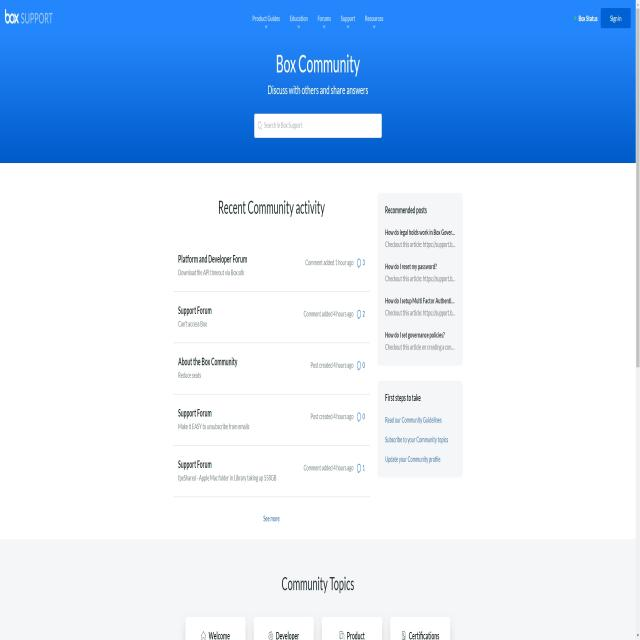menu-bar: (569, 6, 632, 29)
search: (252, 110, 382, 142)
side-panel: (378, 198, 464, 482)
tab-bar: (249, 9, 385, 36)
